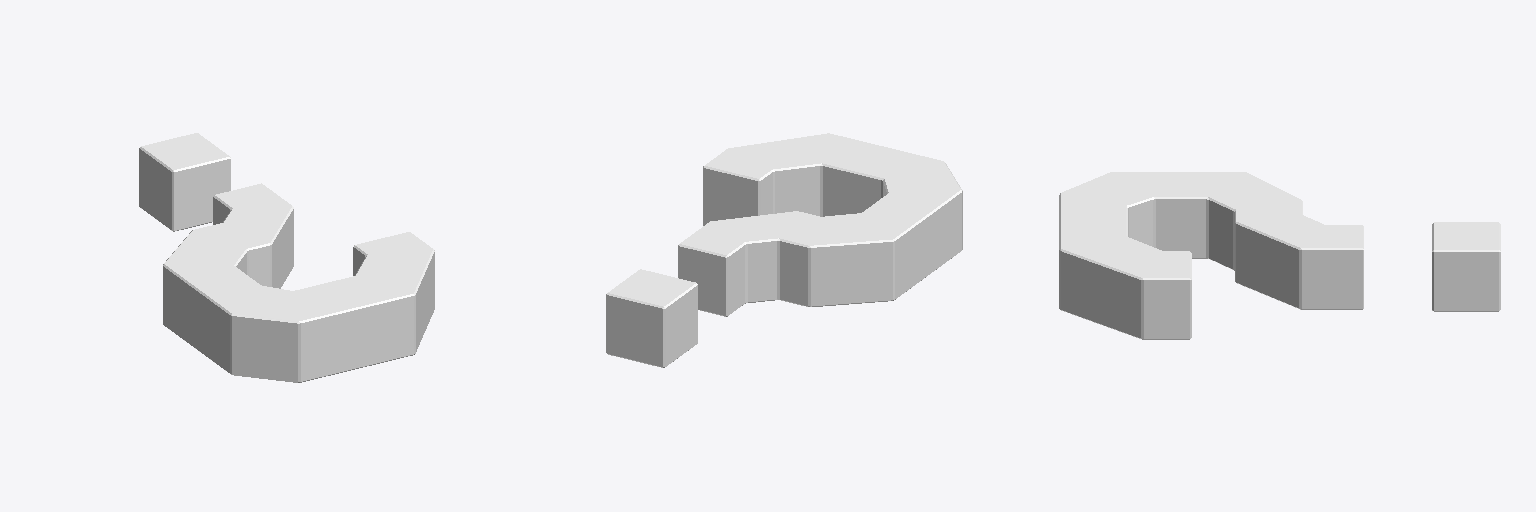
The model's file is QuestionMark.obj.
3 views of the same model, side by side, from view 1: azimuth 30°, elevation 25°; view 2: azimuth 150°, elevation 25°; view 3: azimuth 270°, elevation 25° (orthographic).
Visible parts, largest first — view 1: Mesh.002; view 2: Mesh.002; view 3: Mesh.002.
Boxes of the visible parts, x1,y1,x2,y2 form: Mesh.002: [139, 133, 434, 382]; Mesh.002: [606, 133, 962, 367]; Mesh.002: [1059, 172, 1500, 339].
Bounding box in the file's own units: 16.67 × 4.46 × 28.93.